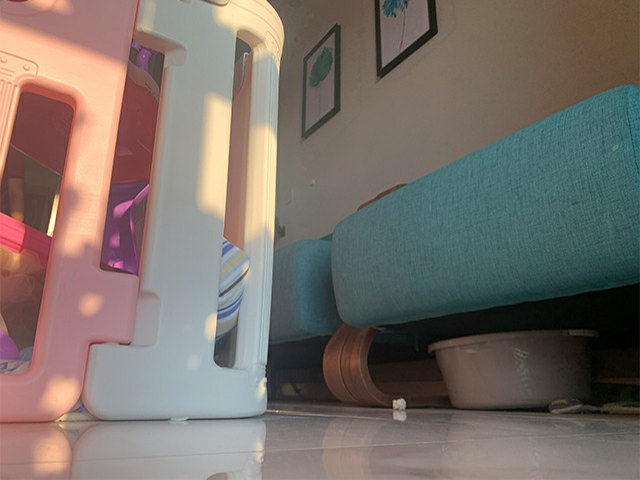sofa: (271, 82, 640, 411)
